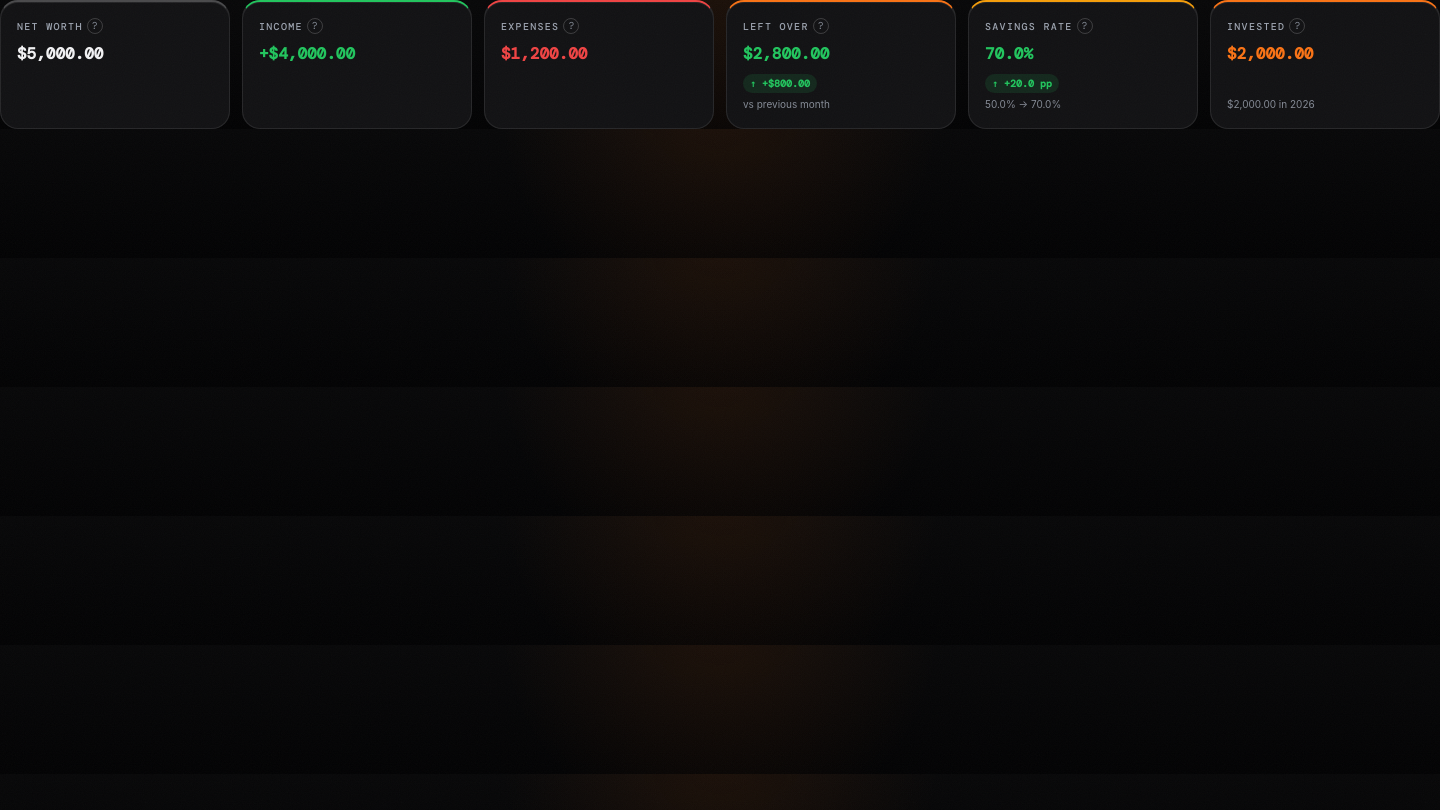
Test: AnalyticsMetricGrid › names how much of Left over stopped being cash
# The explanation is behind the hint button, so it has to be opened.
Click the button named "How Left over is calculated" at (821, 26), box top-left (809, 14), bottom-right (833, 38)
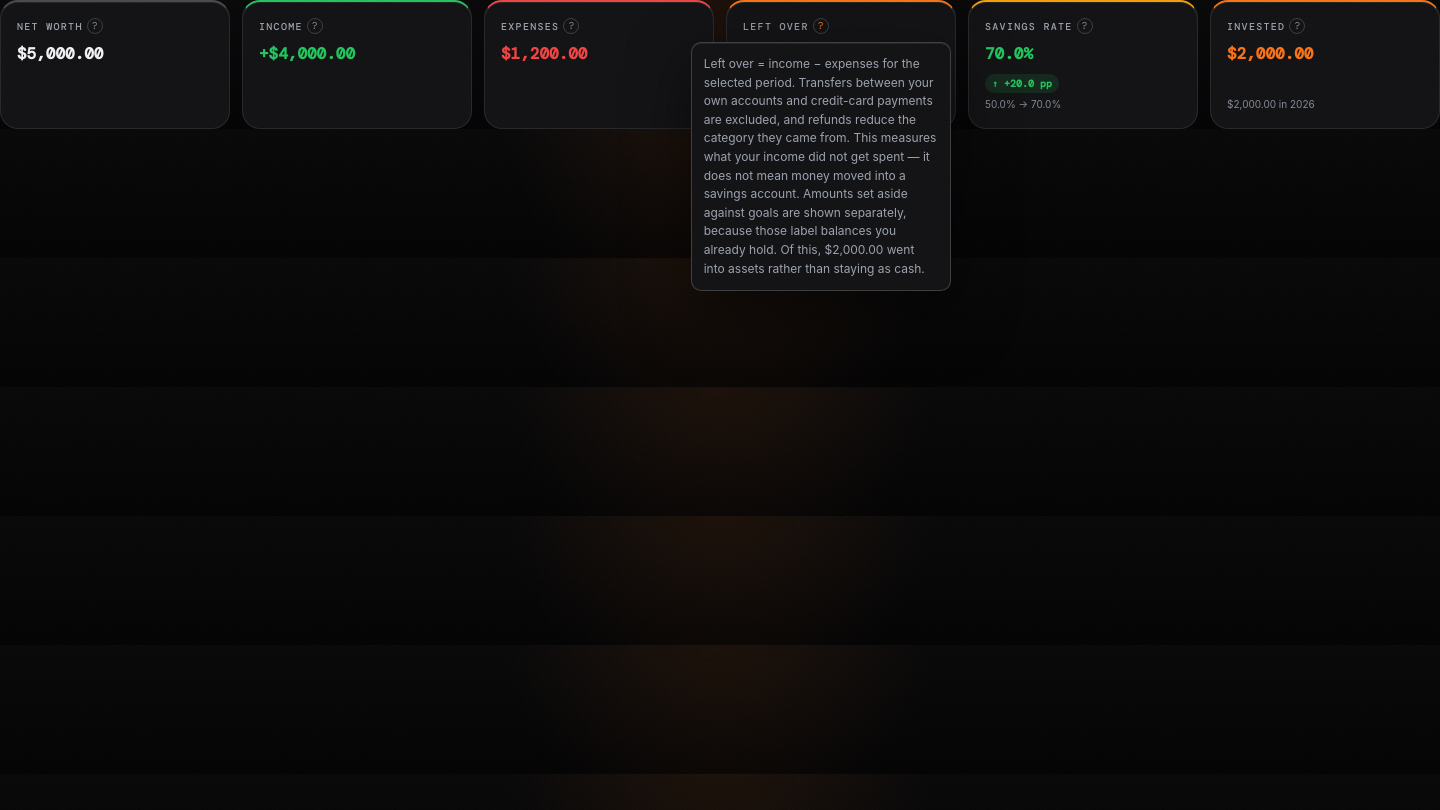
Result: the tooltip "went into assets rather than staying as cash" shows "$2,000.00" at top-left (704, 56), bottom-right (936, 276)
